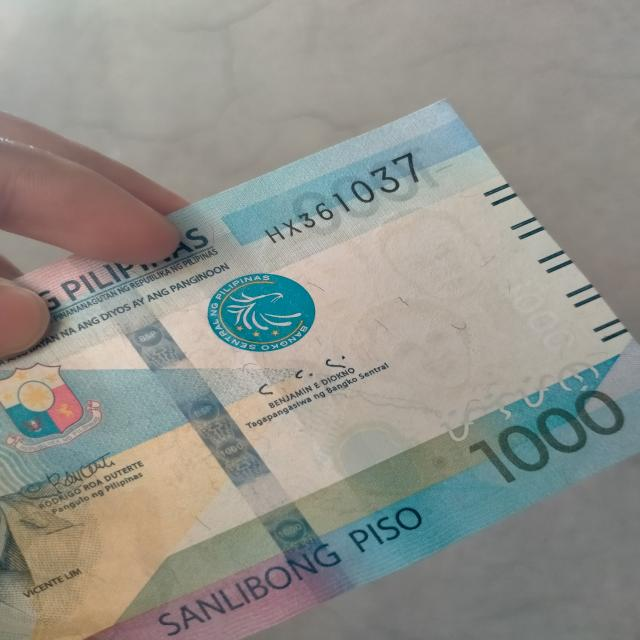security_thread: (67, 246, 357, 601)
see_through_mark: (434, 358, 616, 443)
serial_number: (240, 148, 429, 252)
value_watermark: (500, 271, 578, 365)
watermark: (269, 205, 514, 397)
